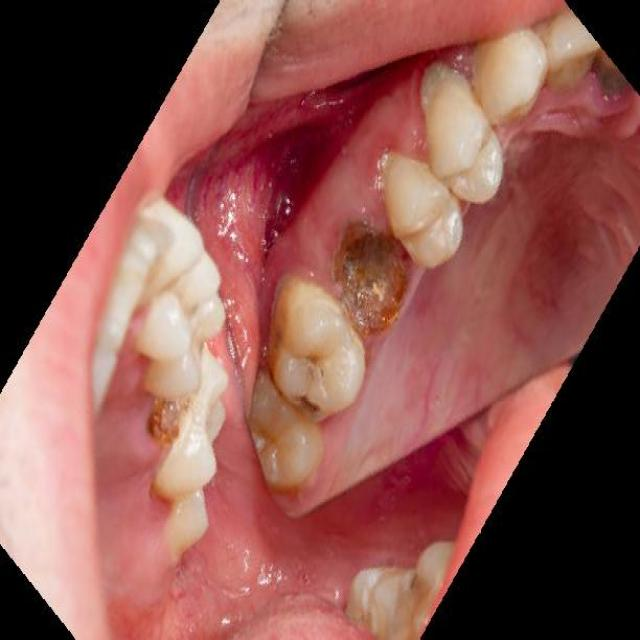caries: (331, 210, 414, 337), (574, 37, 639, 122), (137, 374, 204, 453)
